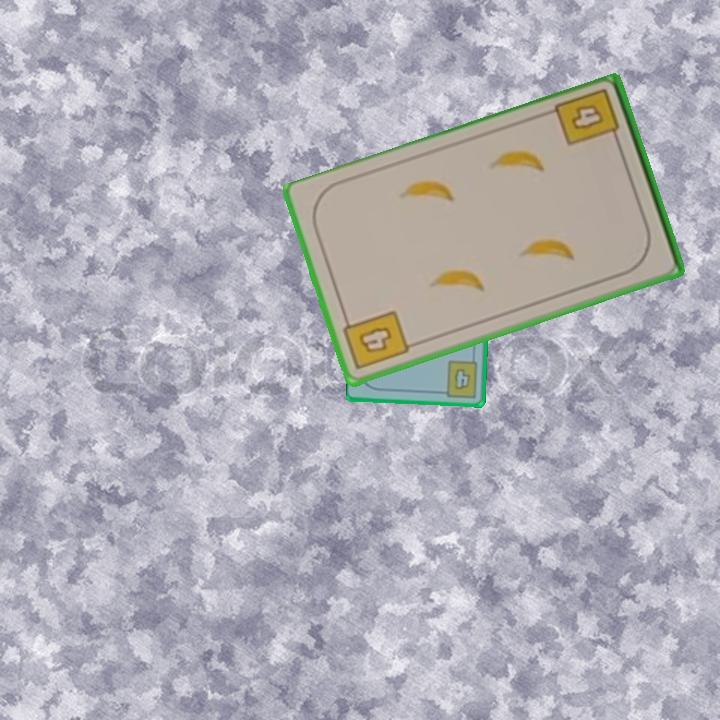4b: (339, 307, 412, 373), (552, 85, 623, 150), (437, 357, 480, 400)
